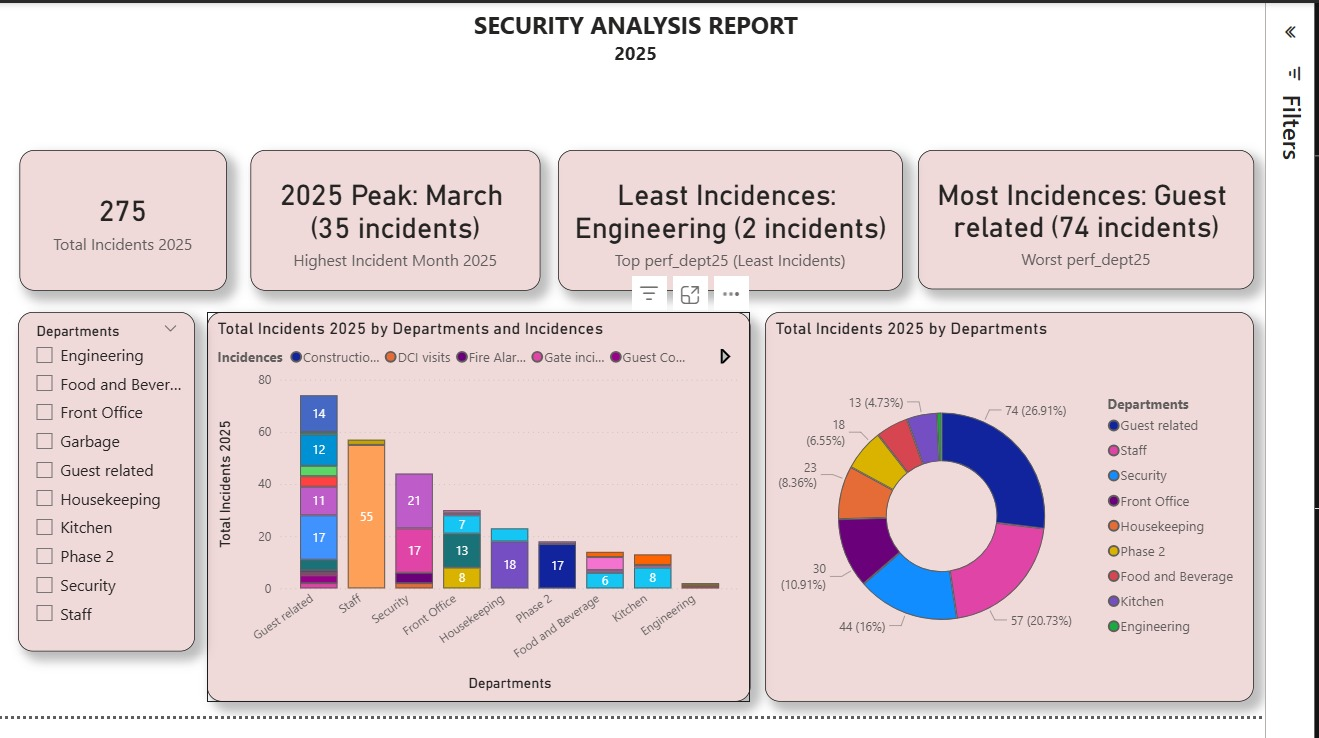

What the dashboard file says about the page in this screenshot:
{"tool":"powerbi","page":{"name":"2025","canvas":[1280,720],"ordinal":3},"visuals":[{"type":"card","fields":{"Values":["Data24/25.Total Incidents 2025"]},"box":[23.4,147.8,209.3,142],"z":0},{"type":"card","fields":{"Values":["Data24/25.Worst perf_dept25"]},"box":[929.3,147.8,339.5,140.5],"z":1000},{"type":"card","fields":{"Values":["Data24/25.Top perf_dept25 (Least Incidents)"]},"box":[566.3,147.8,348.3,142],"z":2000},{"type":"card","fields":{"Values":["Data24/25.Highest Incident Month 2025"]},"box":[256.1,147.8,292.7,142],"z":3000},{"type":"slicer","fields":{"Values":["Data24/25.Departments"]},"box":[22,311.7,178.5,342.4],"z":4000},{"type":"columnChart","fields":{"Category":["Data24/25.Departments"],"Y":["Data24/25.Total Incidents 2025"],"Series":["Data24/25.Incidences"]},"box":[211.7,311.7,548.3,393.3],"z":6000},{"type":"donutChart","fields":{"Category":["Data24/25.Departments"],"Y":["Data24/25.Total Incidents 2025"]},"box":[775.6,311.7,493.2,393.7],"z":7000},{"type":"textbox","box":[300,0,690,106.7],"z":8000}]}

Visuals, with their boxes on the page's 1280x720 design canvas (x1, y1, x2, y2). These are canvas units, not pixel positions in the 1319x738 screenshot, which may show the page scaled, cropped or inside an application window:
card - Data24/25.Total Incidents 2025: l=23, t=148, r=233, b=290
card - Data24/25.Worst perf_dept25: l=929, t=148, r=1269, b=288
card - Data24/25.Top perf_dept25 (Least Incidents): l=566, t=148, r=915, b=290
card - Data24/25.Highest Incident Month 2025: l=256, t=148, r=549, b=290
slicer - Data24/25.Departments: l=22, t=312, r=200, b=654
columnChart - Data24/25.Departments x Data24/25.Total Incidents 2025: l=212, t=312, r=760, b=705
donutChart - Data24/25.Departments x Data24/25.Total Incidents 2025: l=776, t=312, r=1269, b=705
textbox: l=300, t=0, r=990, b=107
